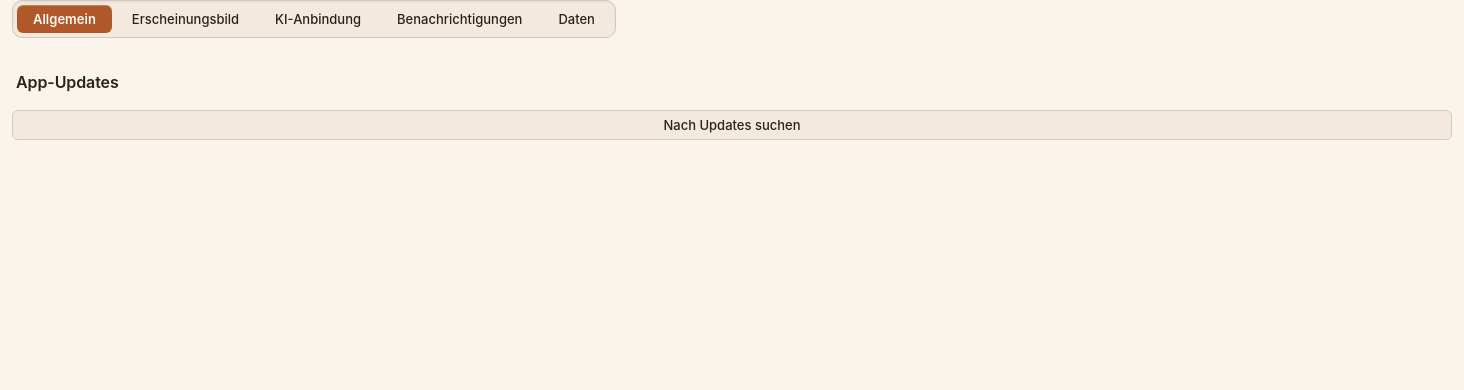
Test: SettingsView › zeigt im Reiter "Daten" sowohl Kalender-Export als auch Kurs-Export/Import
Click the tab "Daten".
click(577, 19)  # box [542,5,611,33]
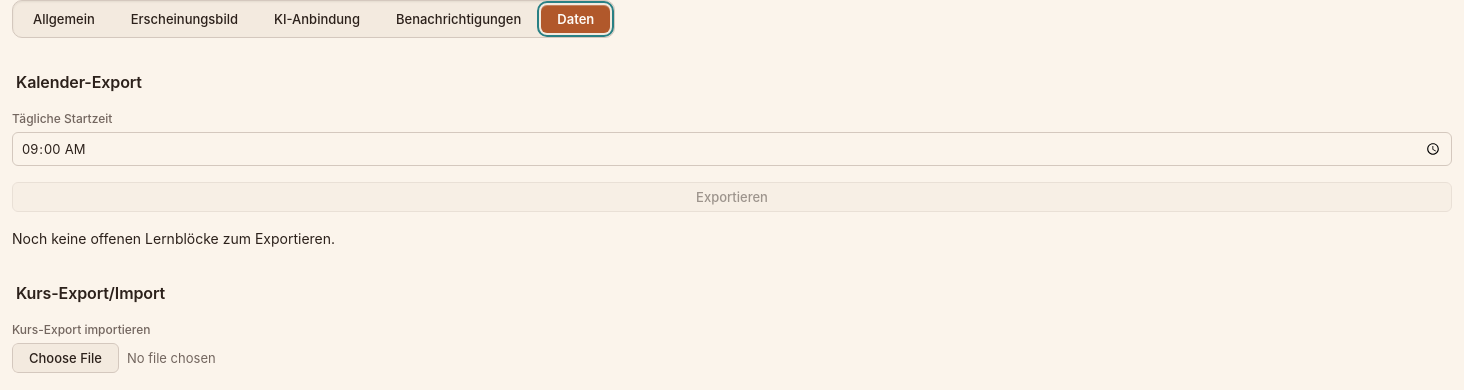
Result: the element "Kalender-Export" is shown at [12,70,1452,249]
Result: the element "Kurs-Export/Import" is shown at [12,281,1452,373]
